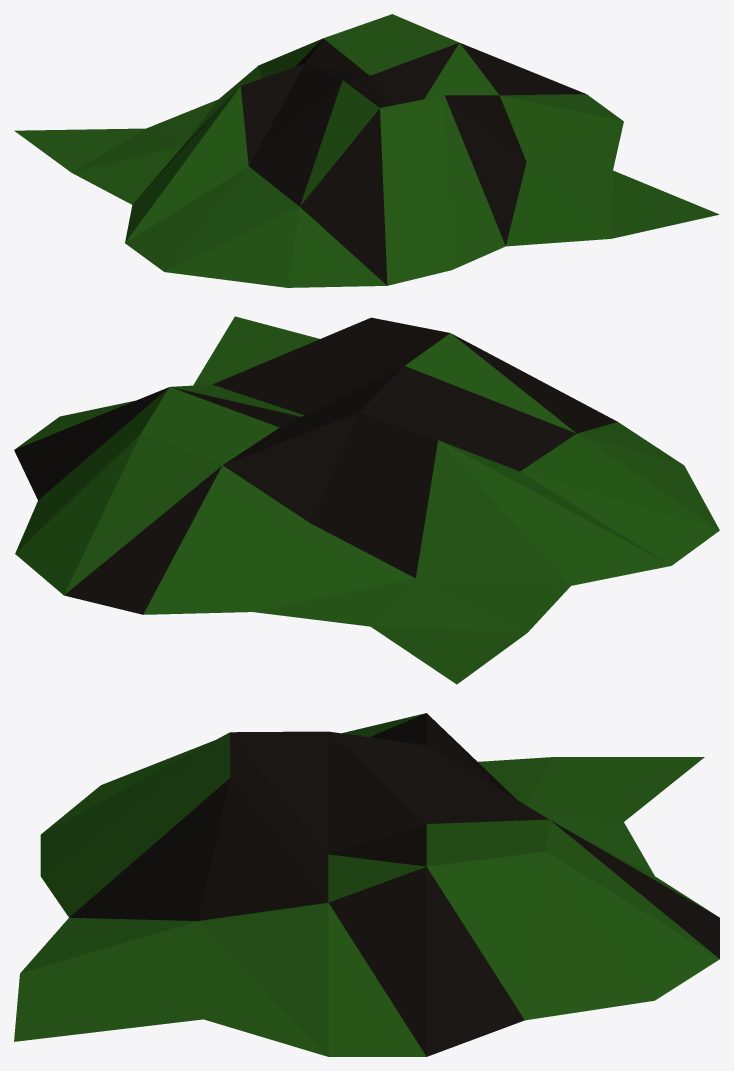
Rendered from Hill_1.fbx.
3 renders of one model, top to bottom at view 1: azimuth 30°, elevation 25°; view 2: azimuth 150°, elevation 25°; view 3: azimuth 270°, elevation 25°, orthographic. The views are drawn at different scales.
Parts seen in each view (by area): view 1: Hill_1; view 2: Hill_1; view 3: Hill_1.
Part boxes in pixels (x1,y1,x2,y2): Hill_1: [14, 14, 719, 287]; Hill_1: [14, 316, 719, 684]; Hill_1: [14, 713, 719, 1056].
Bounding box in the file's own units: 1451 × 305 × 1351.
